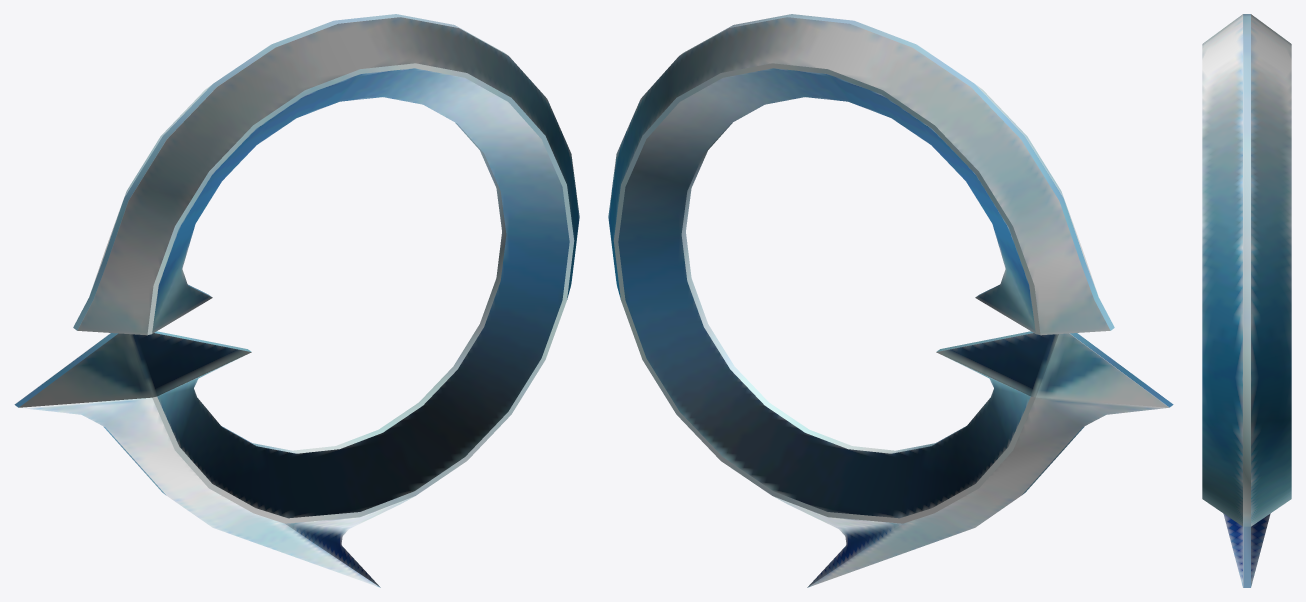
File: icon.ico.obj
3 views of the same model, side by side, from view 1: azimuth 30°, elevation 25°; view 2: azimuth 150°, elevation 25°; view 3: azimuth 270°, elevation 25° (orthographic). The views are drawn at different scales.
Size of the model in its own units: 4.24 by 4.15 by 0.6326.
Materials: 1 (1 with a texture image).
